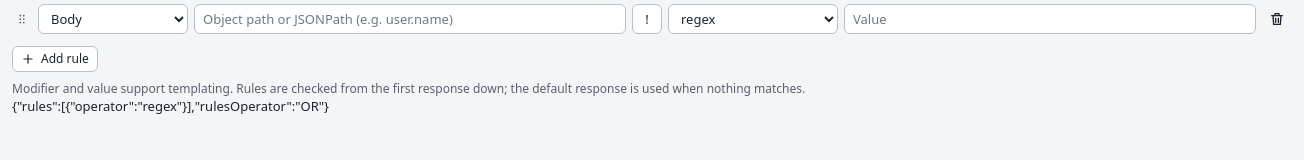
Test: RulesEditor › marks an invalid regex but still saves it
Type "(abc" into the field labelled "Value" at coordinates (1050, 19), box [844, 4, 1256, 34]
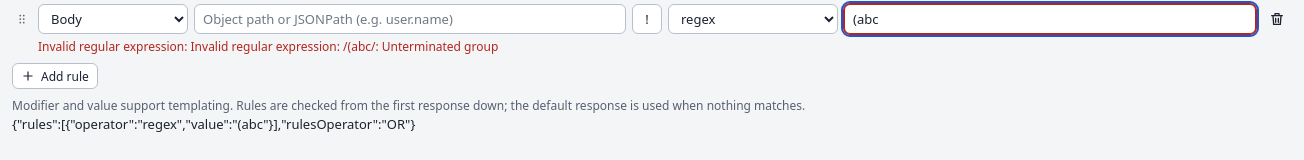
Check: the message shows "Invalid regular expression", box [38, 38, 184, 55]
Type ")" into the field named "Value" at coordinates (1050, 19), box [844, 4, 1256, 34]
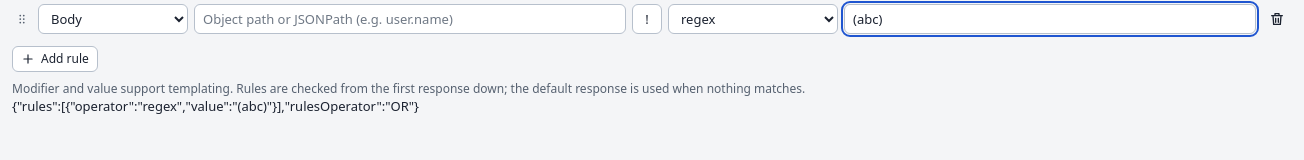
Check: the message is gone
# no validation for other operators
Replace the text in the field named "Value" with "(" at coordinates (1050, 19), box [844, 4, 1256, 34]
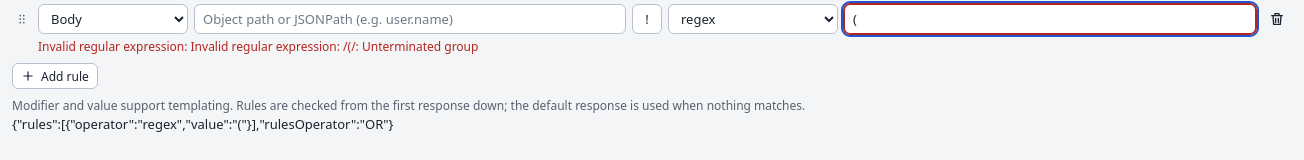
Select "equals" in the dropdown named "Operator" at coordinates (753, 19), box [668, 4, 838, 34]
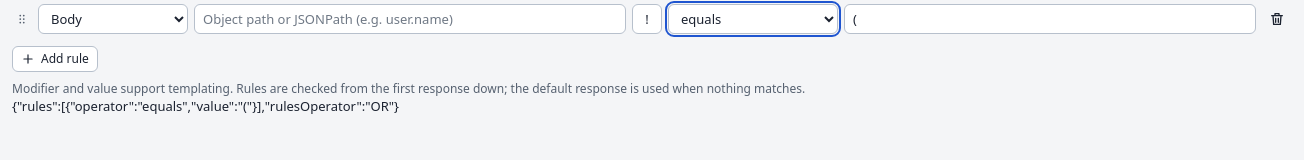
Check: the message is gone
